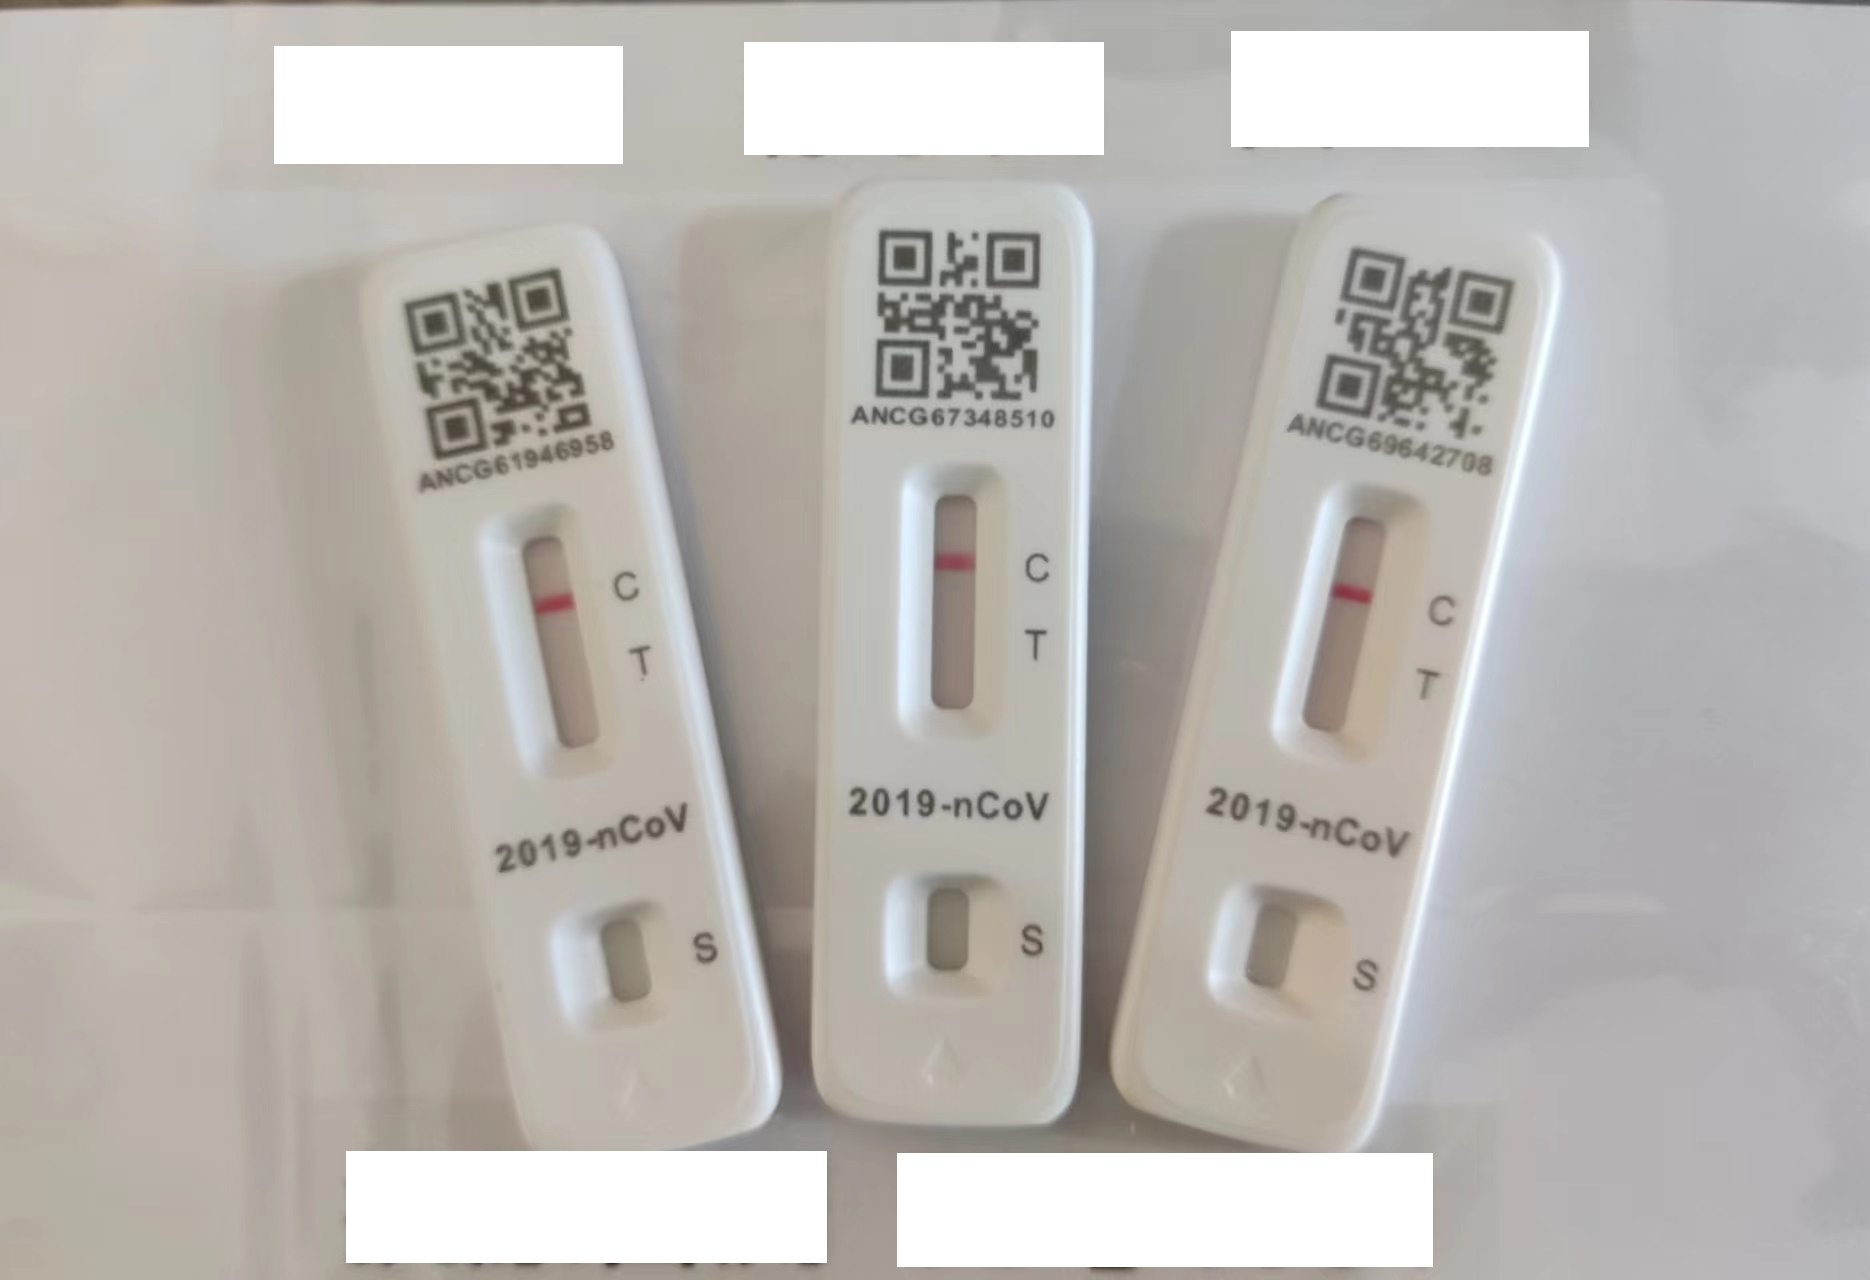negative: (1282, 492, 1422, 759), (480, 507, 617, 776), (897, 463, 1005, 740)
